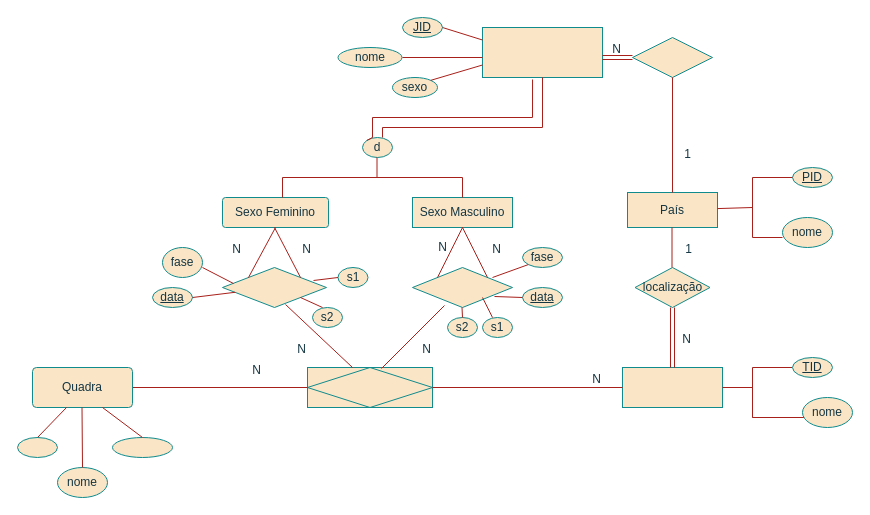
This 870x515 diagram has some shape labels left out. Here are the shapes that lost their labels. From the top down, the box of each, then its label:
(482, 26, 602, 78): Jogador
(632, 36, 712, 78): origem
(222, 266, 326, 308): PartidaF
(412, 266, 512, 308): PartidaM
(306, 366, 432, 408): disponibilidade
(622, 366, 722, 408): Torneio
(16, 436, 58, 458): QID
(112, 436, 172, 458): piso
